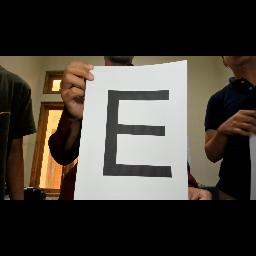e: (100, 86, 178, 184)
